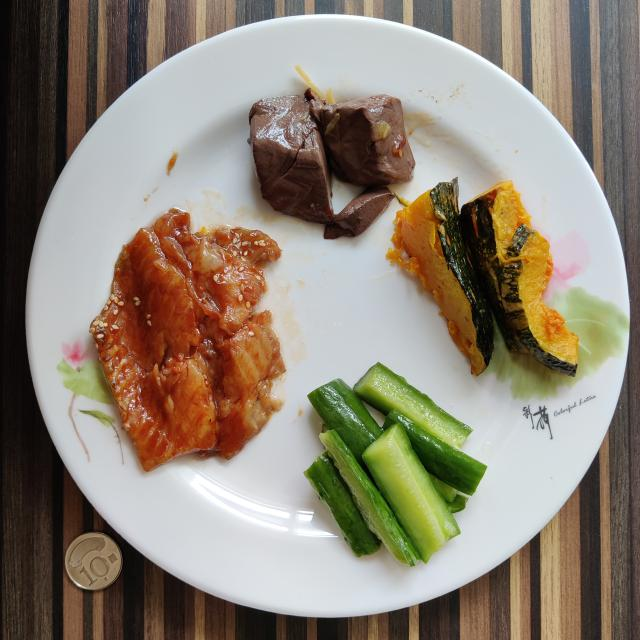Kabayaki sea bream fillet: (90, 209, 285, 471)
coin: (65, 531, 122, 590)
cucumber: (305, 380, 486, 566), (354, 362, 471, 449)
pig blood curd: (249, 89, 415, 239)
pumpkin: (388, 179, 579, 376)
